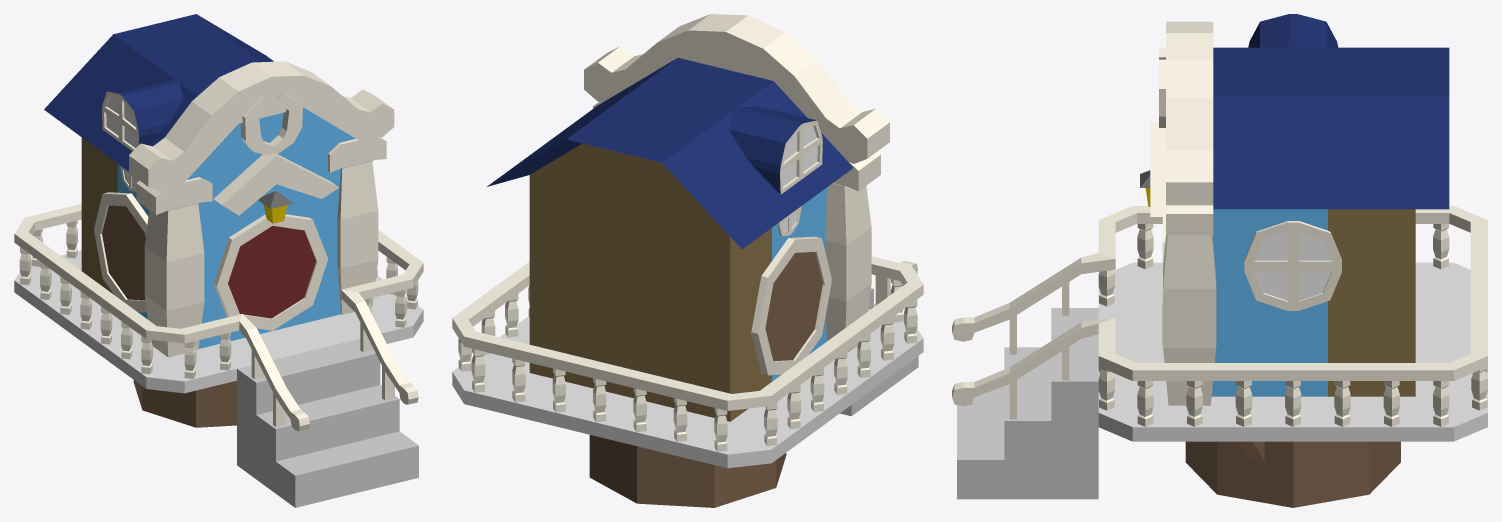
The model's file is karich_house.glb.
The picture shows the model from 3 angles, left to right: view 1: azimuth 30°, elevation 25°; view 2: azimuth 150°, elevation 25°; view 3: azimuth 270°, elevation 25°; orthographic projection. The views are drawn at different scales.
Parts seen in each view (by area): view 1: Cube, Cube.002, Cube.003, Cube.005, Cube.004, Cube.001, Cube.007, Cube.008, Cube.006, Cube.011, Cylinder.002, Cylinder.001 (+3 smaller); view 2: Cube, Cube.001, Cube.005, Cube.004, Cylinder.002, Cube.008, Cube.003, Cube.006, Cylinder.001, Cylinder, Cube.002; view 3: Cube, Cube.001, Cube.004, Cube.002, Cylinder.002, Cube.003, Cube.005, Cube.010, Cylinder.001, Cube.006, Cylinder, Cube.011.
Part boxes in pixels (x1=…): Cube: x1=44, y1=14, x2=355, y2=348; Cube.002: x1=237, y1=339, x2=418, y2=507; Cube.003: x1=136, y1=136, x2=386, y2=357; Cube.005: x1=129, y1=61, x2=394, y2=191; Cube.004: x1=14, y1=204, x2=423, y2=431; Cube.001: x1=14, y1=250, x2=423, y2=393; Cube.007: x1=213, y1=214, x2=328, y2=330; Cube.008: x1=94, y1=192, x2=148, y2=312; Cube.006: x1=102, y1=79, x2=183, y2=151; Cube.011: x1=214, y1=153, x2=338, y2=215; Cylinder.002: x1=133, y1=380, x2=236, y2=427; Cylinder.001: x1=19, y1=247, x2=418, y2=374; Cube: x1=487, y1=58, x2=853, y2=421; Cube.001: x1=452, y1=309, x2=923, y2=468; Cube.005: x1=584, y1=14, x2=889, y2=163; Cube.004: x1=452, y1=256, x2=923, y2=410; Cylinder.002: x1=589, y1=435, x2=786, y2=507; Cube.008: x1=751, y1=236, x2=831, y2=375; Cube.003: x1=593, y1=100, x2=880, y2=352; Cube.006: x1=729, y1=106, x2=822, y2=194; Cylinder.001: x1=458, y1=285, x2=917, y2=446; Cylinder: x1=471, y1=279, x2=903, y2=451; Cube.002: x1=840, y1=288, x2=918, y2=416; Cube: x1=1211, y1=47, x2=1449, y2=396; Cube.001: x1=1098, y1=262, x2=1487, y2=441; Cube.004: x1=952, y1=206, x2=1487, y2=419; Cube.002: x1=957, y1=308, x2=1098, y2=499; Cylinder.002: x1=1185, y1=441, x2=1400, y2=507; Cube.003: x1=1163, y1=205, x2=1216, y2=405; Cube.005: x1=1166, y1=21, x2=1213, y2=205; Cube.010: x1=1244, y1=221, x2=1341, y2=310; Cylinder.001: x1=1137, y1=224, x2=1449, y2=426; Cube.006: x1=1248, y1=14, x2=1338, y2=47; Cylinder: x1=1098, y1=270, x2=1487, y2=410; Cube.011: x1=1150, y1=122, x2=1165, y2=216.
Size of the model in its own units: 2.41 by 2.93 by 3.31.
